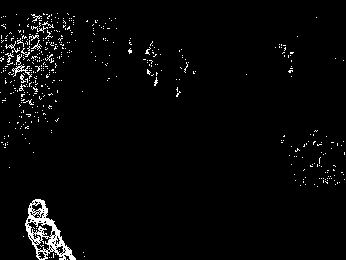person: (24, 197, 75, 260)
